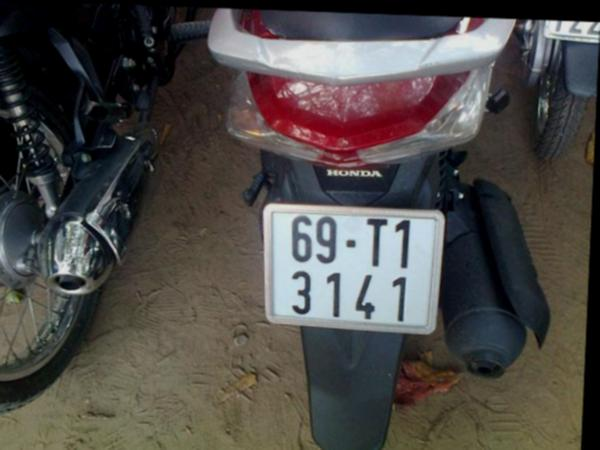License_Plate: (262, 208, 444, 331)
